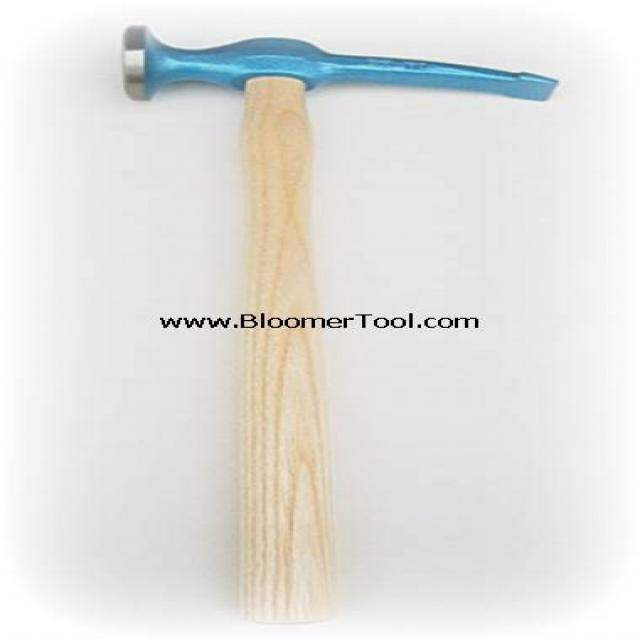hammer: (115, 12, 574, 632)
